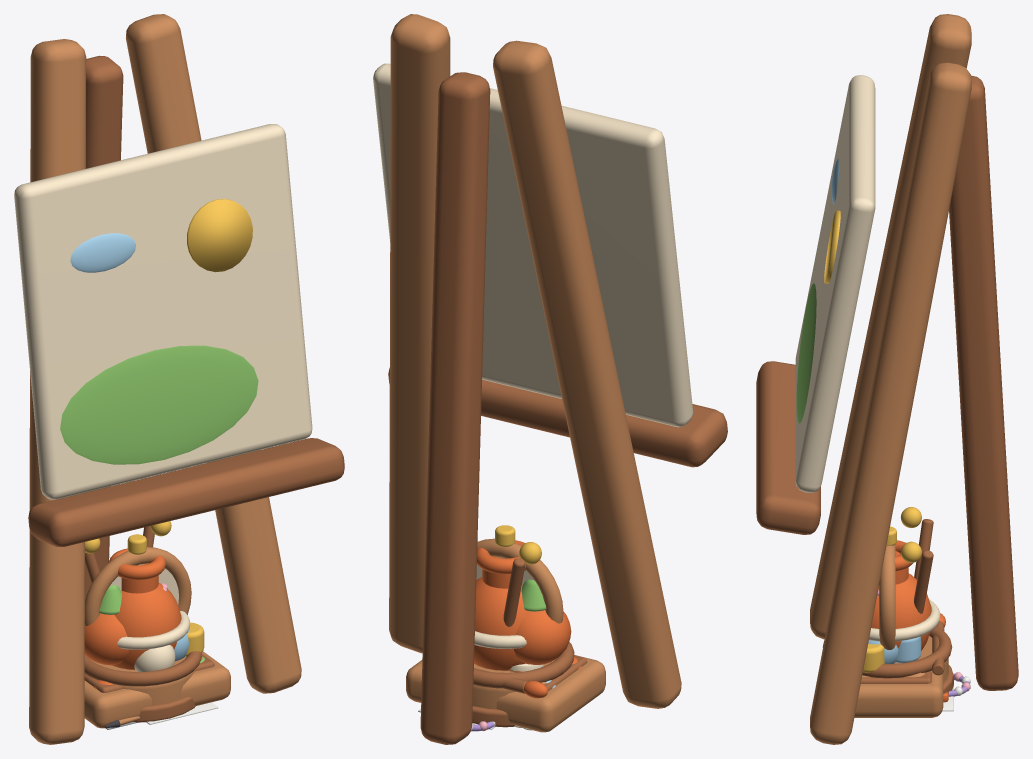
Rendered from interest_craft_v3_8.glb.
3 views of the same model, side by side, from view 1: azimuth 30°, elevation 25°; view 2: azimuth 150°, elevation 25°; view 3: azimuth 270°, elevation 25° (orthographic). The views are drawn at different scales.
Visible parts, largest first — view 1: easel_canvas, easel_leg_L, easel_leg_R, easel_paint_hill, easel_ledge, easel_leg_back, easel_paint_sun, paint_box_body, pottery_vase_body, embroidery_hoop_ring, easel_paint_sky_cloud, yarn_basket_rim (+6 smaller); view 2: easel_leg_L, easel_canvas, easel_leg_back, easel_leg_R, easel_ledge, paint_box_body, pottery_vase_body, sewing_kit_cushion, embroidery_hoop_ring, yarn_basket_rim, yarn_basket_needle_a, yarn_basket_basket (+4 smaller); view 3: easel_leg_R, easel_leg_back, easel_canvas, easel_leg_L, easel_ledge, paint_box_body, easel_paint_hill, embroidery_hoop_ring, pottery_vase_body, yarn_basket_rim, pottery_vase_band, yarn_basket_needle_b (+5 smaller).
Part boxes in pixels (left/top/right/bottom): easel_canvas: left=14, top=124, right=312, bottom=499; easel_leg_L: left=29, top=39, right=86, bottom=744; easel_leg_R: left=126, top=14, right=301, bottom=693; easel_paint_hill: left=60, top=345, right=258, bottom=464; easel_ledge: left=28, top=438, right=344, bottom=546; easel_leg_back: left=85, top=55, right=123, bottom=600; easel_paint_sun: left=187, top=199, right=252, bottom=272; paint_box_body: left=84, top=651, right=230, bottom=728; pottery_vase_body: left=112, top=583, right=181, bottom=669; embroidery_hoop_ring: left=84, top=547, right=191, bottom=625; easel_paint_sky_cloud: left=70, top=233, right=135, bottom=272; yarn_basket_rim: left=84, top=651, right=201, bottom=686; easel_leg_L: left=493, top=40, right=681, bottom=708; easel_canvas: left=373, top=63, right=693, bottom=427; easel_leg_back: left=420, top=72, right=490, bottom=744; easel_leg_R: left=389, top=14, right=450, bottom=653; easel_ledge: left=388, top=368, right=727, bottom=467; paint_box_body: left=406, top=655, right=605, bottom=732; pottery_vase_body: left=474, top=577, right=529, bottom=670; sewing_kit_cushion: left=514, top=610, right=571, bottom=664; embroidery_hoop_ring: left=477, top=538, right=563, bottom=623; yarn_basket_rim: left=473, top=642, right=574, bottom=688; yarn_basket_needle_a: left=503, top=558, right=525, bottom=626; yarn_basket_basket: left=473, top=662, right=551, bottom=709; easel_leg_R: left=810, top=62, right=971, bottom=744; easel_leg_back: left=949, top=75, right=1018, bottom=690; easel_canvas: left=795, top=75, right=875, bottom=492; easel_leg_L: left=810, top=14, right=971, bottom=639; easel_ledge: left=756, top=361, right=820, bottom=534; paint_box_body: left=854, top=673, right=943, bottom=717; easel_paint_hill: left=796, top=283, right=816, bottom=423; embroidery_hoop_ring: left=879, top=544, right=895, bottom=649; pottery_vase_body: left=871, top=573, right=931, bottom=650; yarn_basket_rim: left=822, top=626, right=952, bottom=678; pottery_vase_band: left=869, top=599, right=940, bottom=641; yarn_basket_needle_b: left=914, top=550, right=933, bottom=613.
Bounding box in the file's own units: 0.64 × 1.34 × 0.4934.
